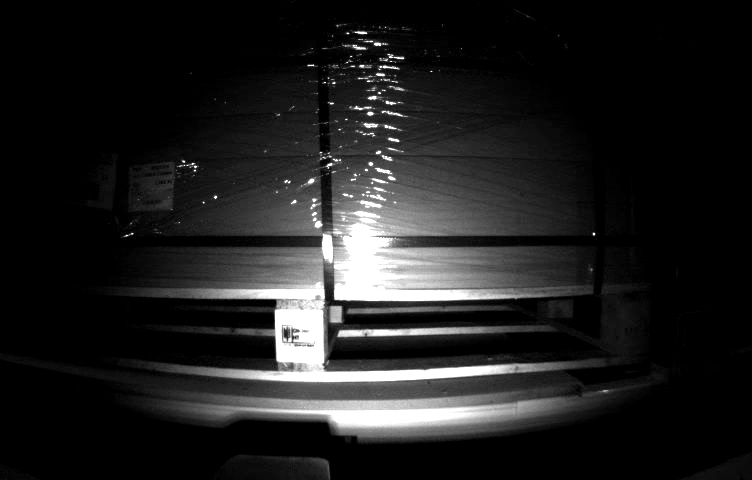True Barcode: (127, 160, 176, 211)
